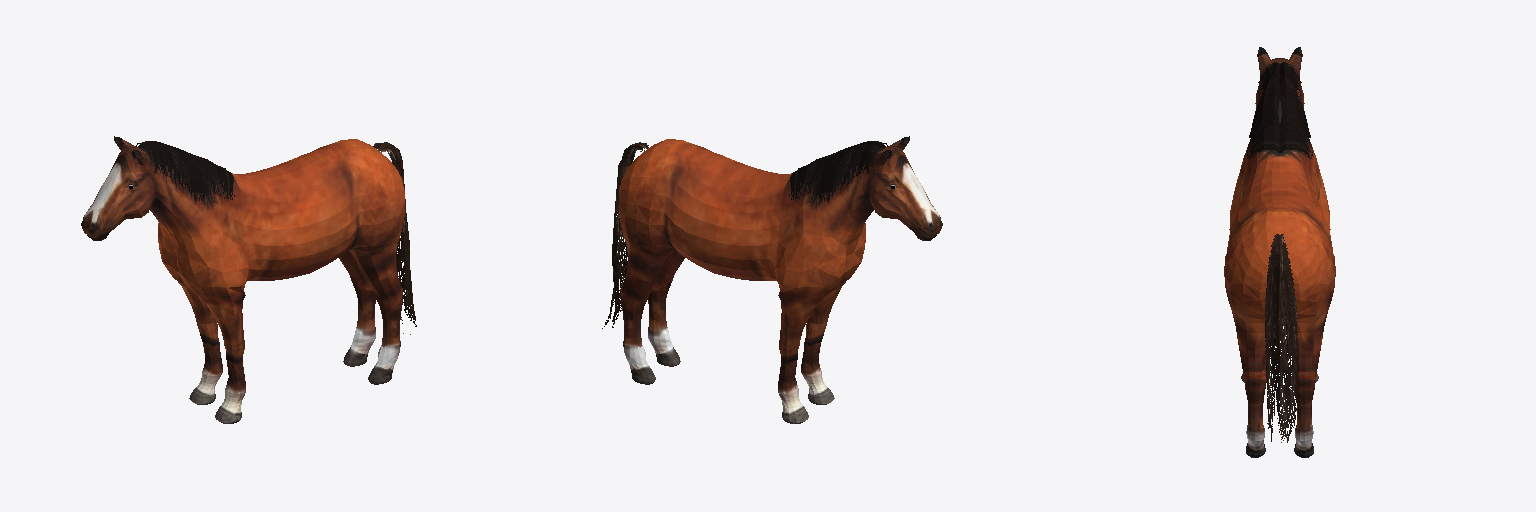
The picture shows the model from 3 angles: view 1: azimuth 30°, elevation 25°; view 2: azimuth 150°, elevation 25°; view 3: azimuth 270°, elevation 25°; orthographic projection.
Visible parts, largest first — view 1: Cylinder.001_Material_0; view 2: Cylinder.001_Material_0; view 3: Cylinder.001_Material_0.
Part boxes in pixels (x1,y1,x2,y2): Cylinder.001_Material_0: (81,136,416,423); Cylinder.001_Material_0: (602,136,942,423); Cylinder.001_Material_0: (1224,47,1335,457).
Bounding box in the file's own units: 716 × 580 × 203.
Materials: 1 (1 with a texture image).